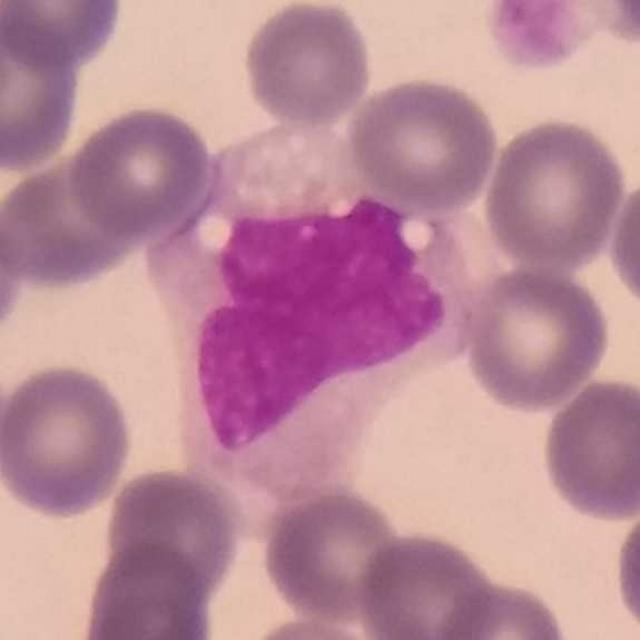Monocyte: (156, 125, 514, 503)
Platelets: (476, 0, 586, 70)
RBC: (478, 113, 629, 274), (458, 264, 614, 414), (257, 483, 411, 628), (342, 72, 501, 212), (0, 359, 137, 521), (65, 100, 217, 240), (100, 463, 248, 603), (1, 154, 149, 292), (238, 0, 375, 128), (353, 526, 503, 640), (537, 372, 640, 525), (74, 538, 219, 640), (0, 9, 85, 174), (0, 0, 128, 71), (430, 577, 572, 640), (604, 166, 640, 318), (0, 184, 27, 354), (610, 492, 640, 640), (234, 614, 398, 640)
